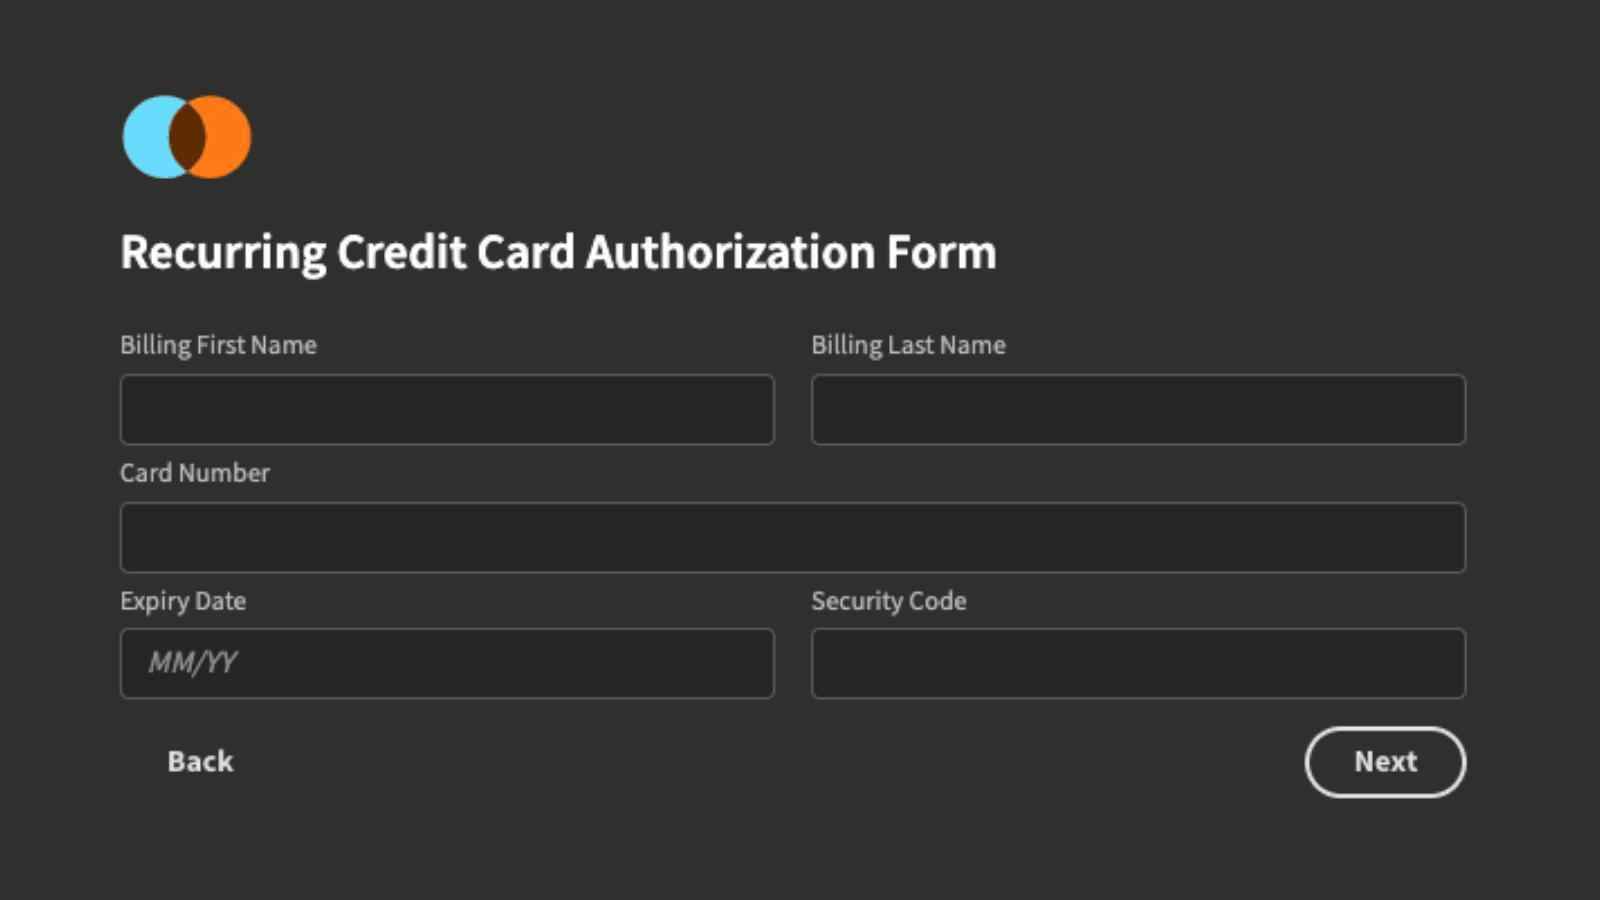button: (1305, 724, 1466, 802)
input: (124, 499, 1469, 579), (120, 373, 780, 449), (811, 376, 1469, 453), (812, 626, 1468, 702), (125, 629, 778, 702)
label: (810, 326, 1012, 364), (116, 327, 323, 362), (811, 587, 970, 621), (115, 460, 278, 490), (118, 584, 258, 616)
